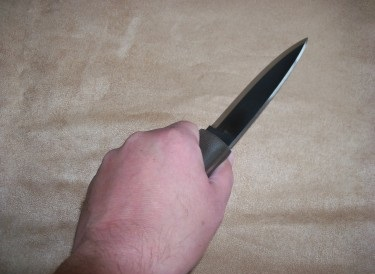knife: (156, 30, 316, 194)
